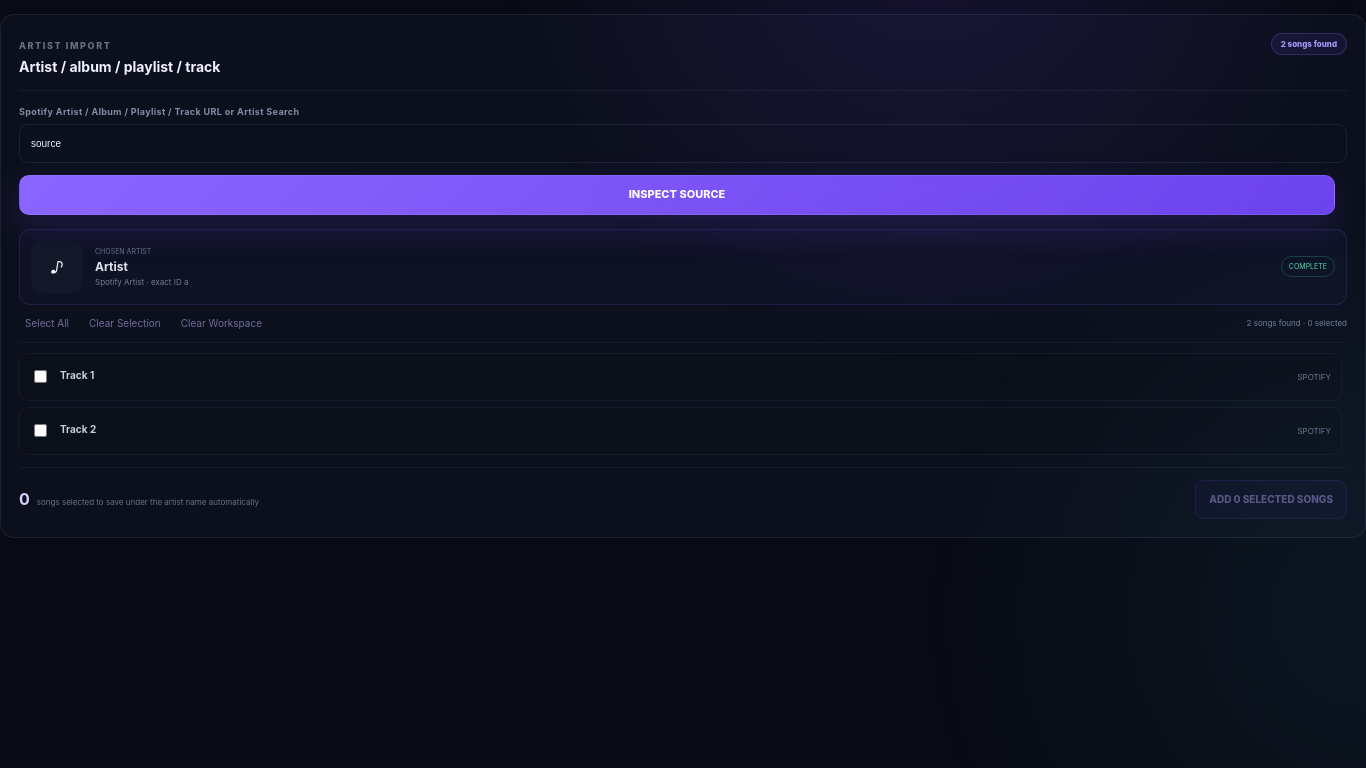
Test: StreamingImportWorkspace › has no Collection name and keeps select/clear semantics separate
Expected: the text "2 songs found · 0 selected" is shown, [1247,318,1347,328]
What coordinates should you click on to do the following:
click the button "Select All"
I would click on:
 (47, 323)
Its box is [19,316,75,330].
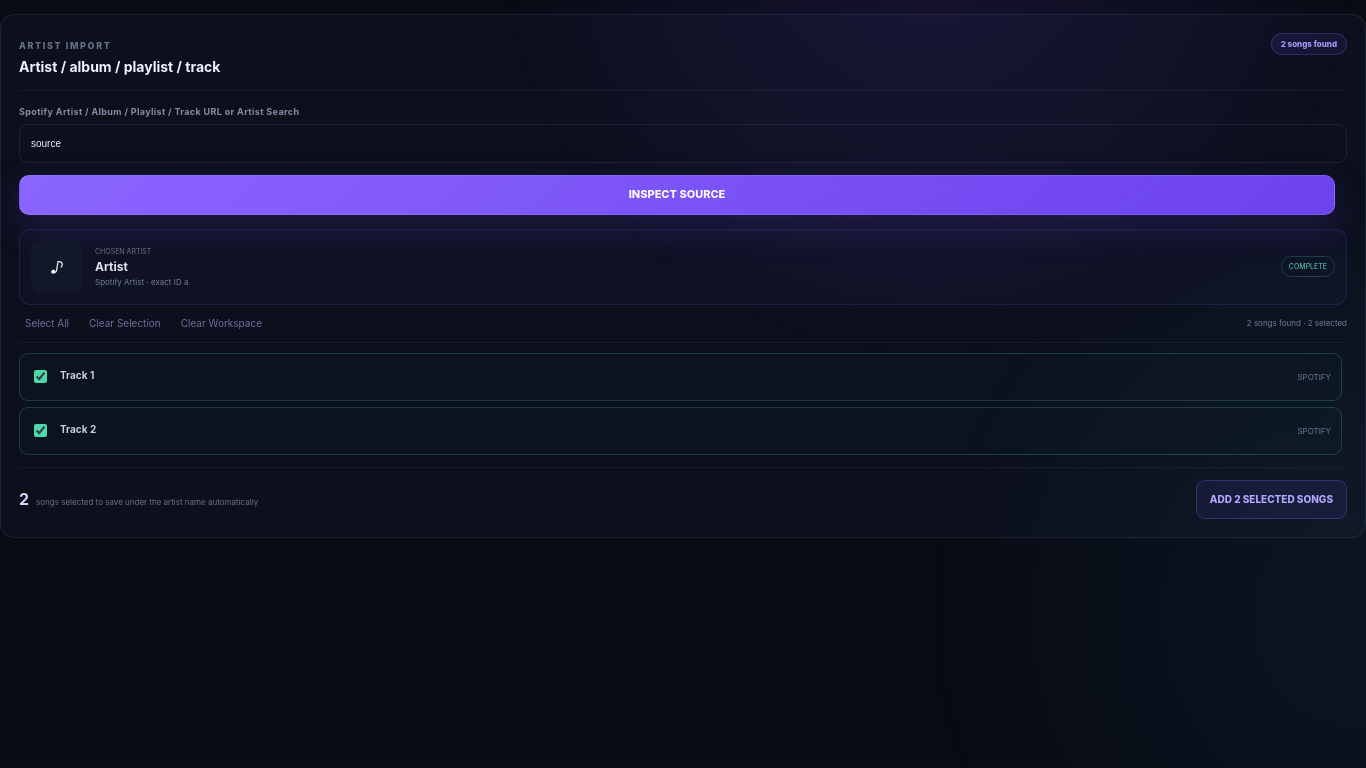
Expected: the text "2 songs found · 2 selected" is shown, [1247,318,1347,328]
What coordinates should you click on to do the following:
click the button "Clear Selection"
I would click on:
 (125, 323)
Its box is [83,316,167,330].
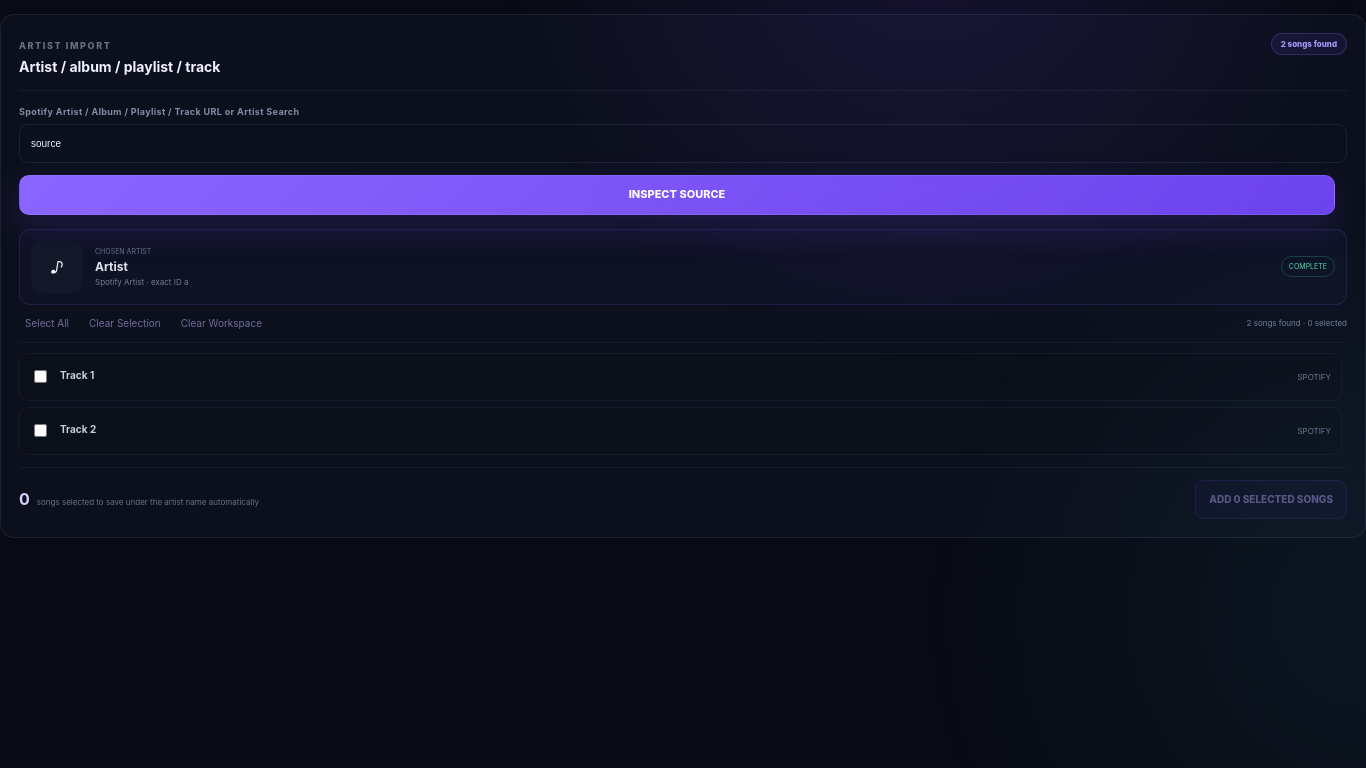
Expected: the button "Clear Workspace" is shown, [175,316,268,330]
Expected: the text "2 songs found · 0 selected" is shown, [1247,318,1347,328]
